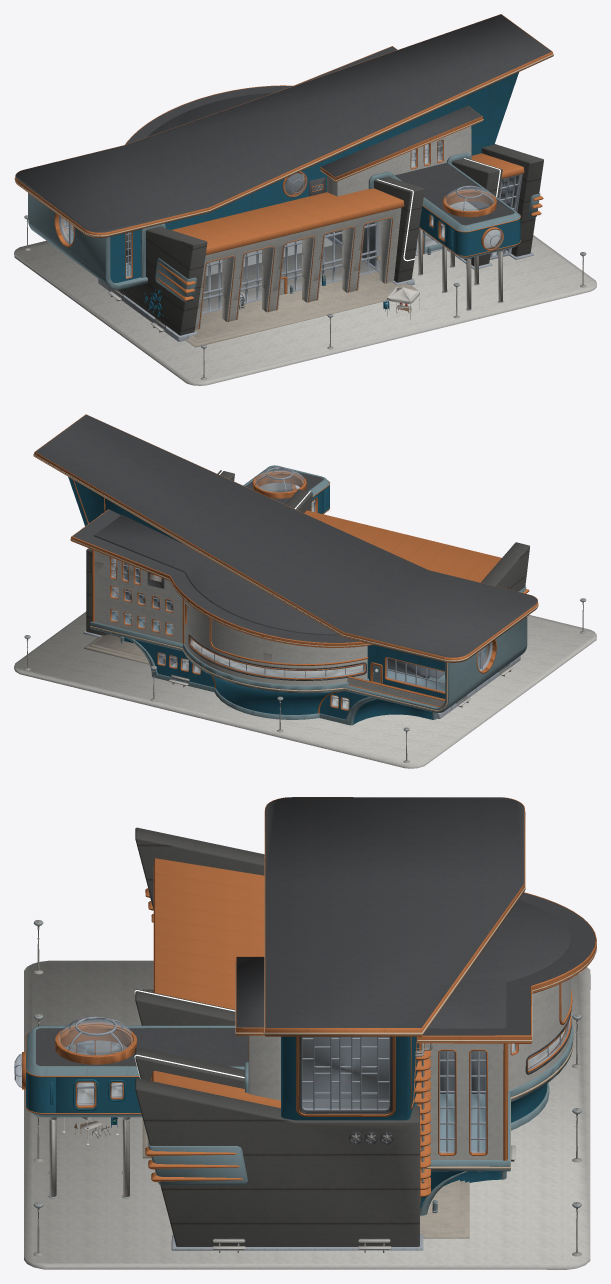
The model's file is cargo_retro_municipality.glb.
3 views of the same model, one above another, from view 1: azimuth 30°, elevation 25°; view 2: azimuth 150°, elevation 25°; view 3: azimuth 270°, elevation 25° (orthographic). The views are drawn at different scales.
Parts seen in each view (by area): view 1: KB3D_ATP_BldgSmMunicipality_A_BuildingB, KB3D_ATP_BldgSmMunicipality_A_Base, KB3D_ATP_BldgSmMunicipality_A_BuildingA, KB3D_ATP_BldgSmMunicipality_A_BuildingB_transparent, KB3D_ATP_BldgSmMunicipality_A_BuildingA_transparent; view 2: KB3D_ATP_BldgSmMunicipality_A_BuildingB, KB3D_ATP_BldgSmMunicipality_A_Base, KB3D_ATP_BldgSmMunicipality_A_BuildingB_transparent, KB3D_ATP_BldgSmMunicipality_A_BuildingA, KB3D_ATP_BldgSmMunicipality_A_BuildingA_transparent; view 3: KB3D_ATP_BldgSmMunicipality_A_BuildingB, KB3D_ATP_BldgSmMunicipality_A_Base, KB3D_ATP_BldgSmMunicipality_A_BuildingA, KB3D_ATP_BldgSmMunicipality_A_BuildingB_transparent, KB3D_ATP_BldgSmMunicipality_A_BuildingA_transparent.
Boxes of the visible parts, x1=… form: KB3D_ATP_BldgSmMunicipality_A_BuildingB: x1=14, y1=14, x2=553, y2=347; KB3D_ATP_BldgSmMunicipality_A_Base: x1=14, y1=235, x2=596, y2=385; KB3D_ATP_BldgSmMunicipality_A_BuildingA: x1=392, y1=162, x2=520, y2=310; KB3D_ATP_BldgSmMunicipality_A_BuildingB_transparent: x1=62, y1=141, x2=516, y2=312; KB3D_ATP_BldgSmMunicipality_A_BuildingA_transparent: x1=432, y1=186, x2=503, y2=249; KB3D_ATP_BldgSmMunicipality_A_BuildingB: x1=33, y1=414, x2=538, y2=725; KB3D_ATP_BldgSmMunicipality_A_Base: x1=14, y1=611, x2=596, y2=768; KB3D_ATP_BldgSmMunicipality_A_BuildingB_transparent: x1=112, y1=558, x2=489, y2=708; KB3D_ATP_BldgSmMunicipality_A_BuildingA: x1=243, y1=465, x2=329, y2=514; KB3D_ATP_BldgSmMunicipality_A_BuildingA_transparent: x1=255, y1=468, x2=313, y2=511; KB3D_ATP_BldgSmMunicipality_A_BuildingB: x1=134, y1=797, x2=596, y2=1250; KB3D_ATP_BldgSmMunicipality_A_Base: x1=24, y1=960, x2=590, y2=1269; KB3D_ATP_BldgSmMunicipality_A_BuildingA: x1=14, y1=1016, x2=248, y2=1198; KB3D_ATP_BldgSmMunicipality_A_BuildingB_transparent: x1=302, y1=1022, x2=568, y2=1151; KB3D_ATP_BldgSmMunicipality_A_BuildingA_transparent: x1=14, y1=1018, x2=133, y2=1103.
Size of the model in its own units: 31.99 by 11.44 by 23.01.
Materials: 35 (35 with a texture image).
